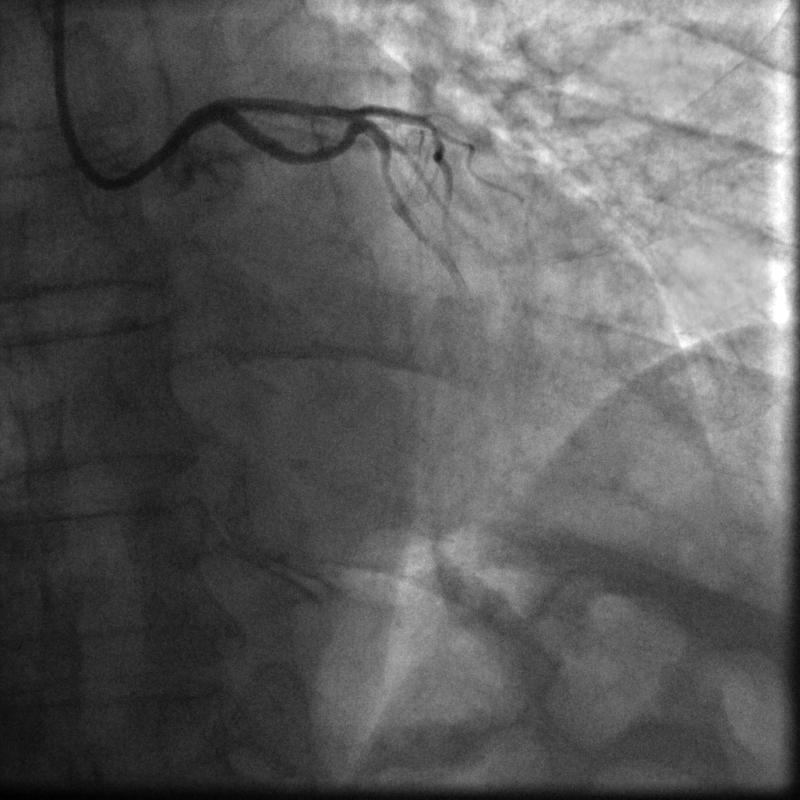Stenosis: (379, 162, 392, 182)
